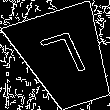L_S: (37, 29, 94, 87)
